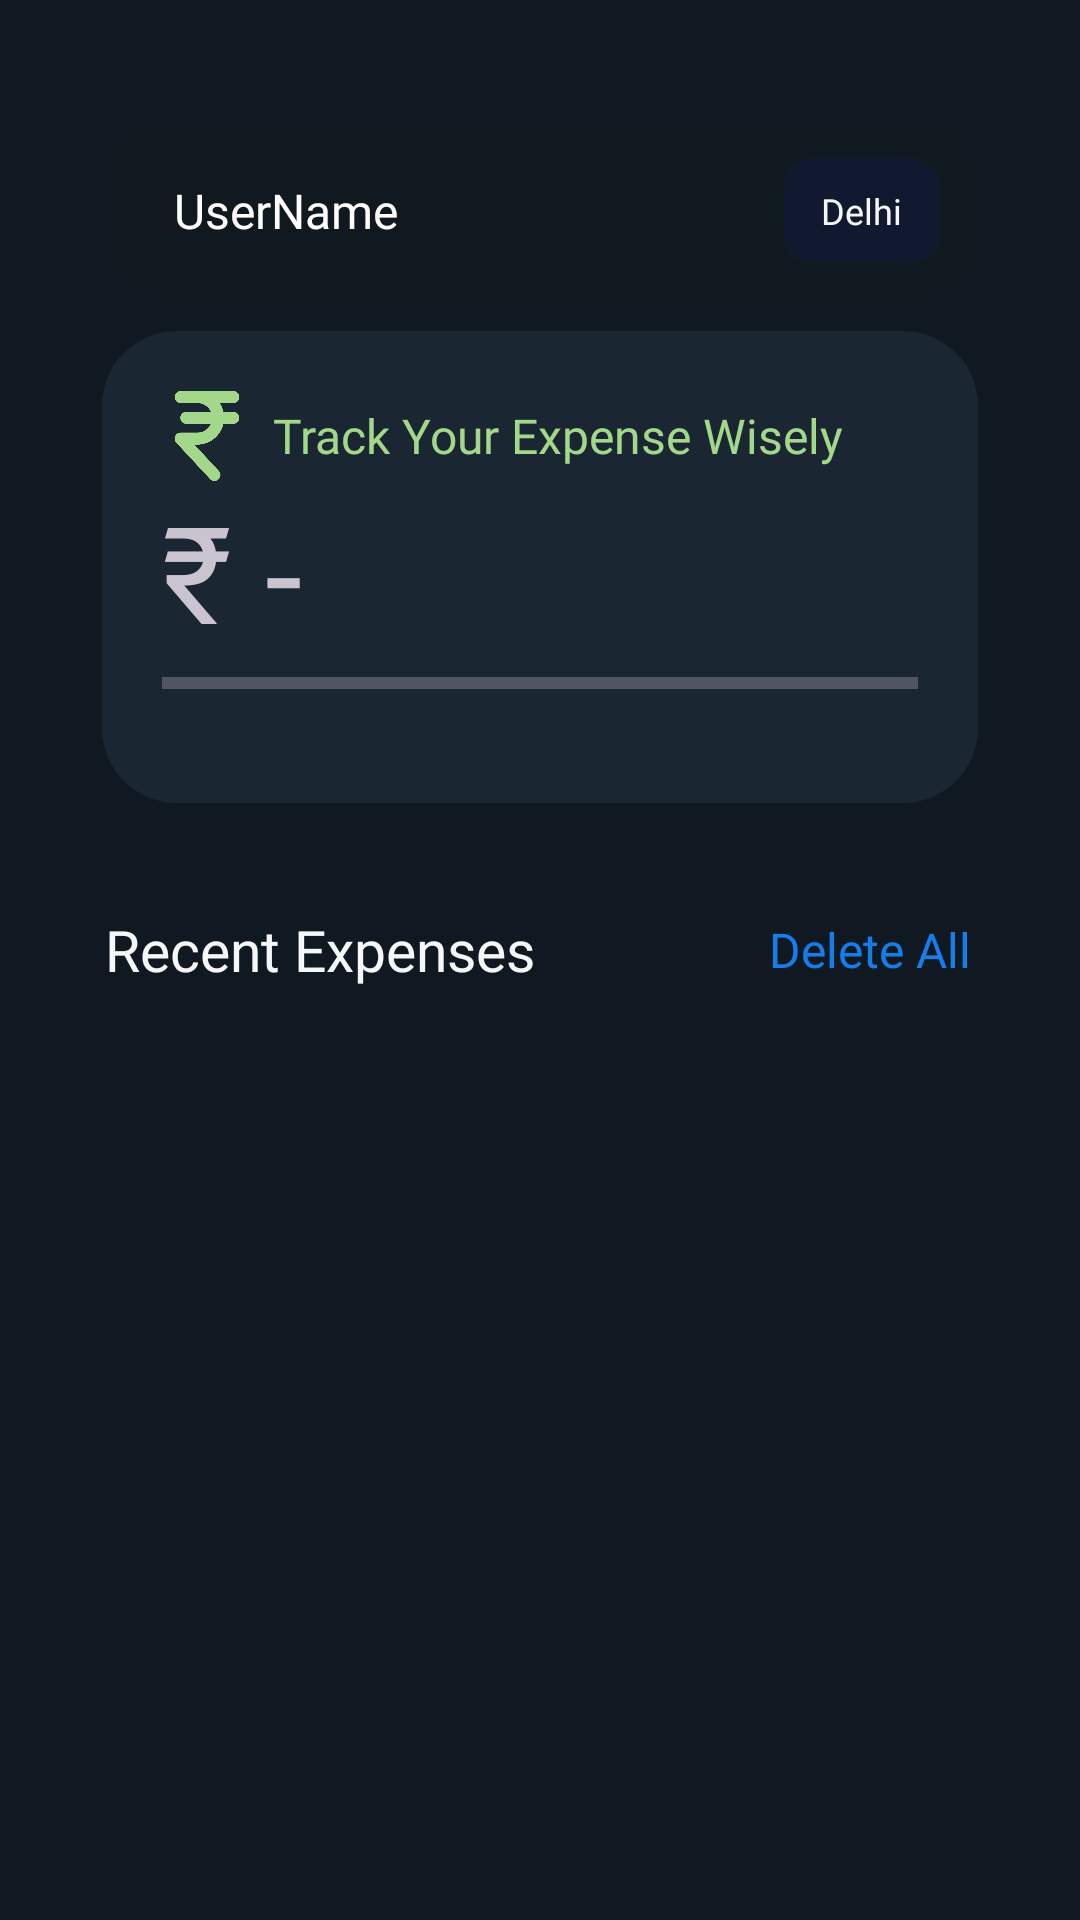

Icon click points for this 1080px x 1920px phone screenshot, format point (x, y):
rupee: point (206, 436)
